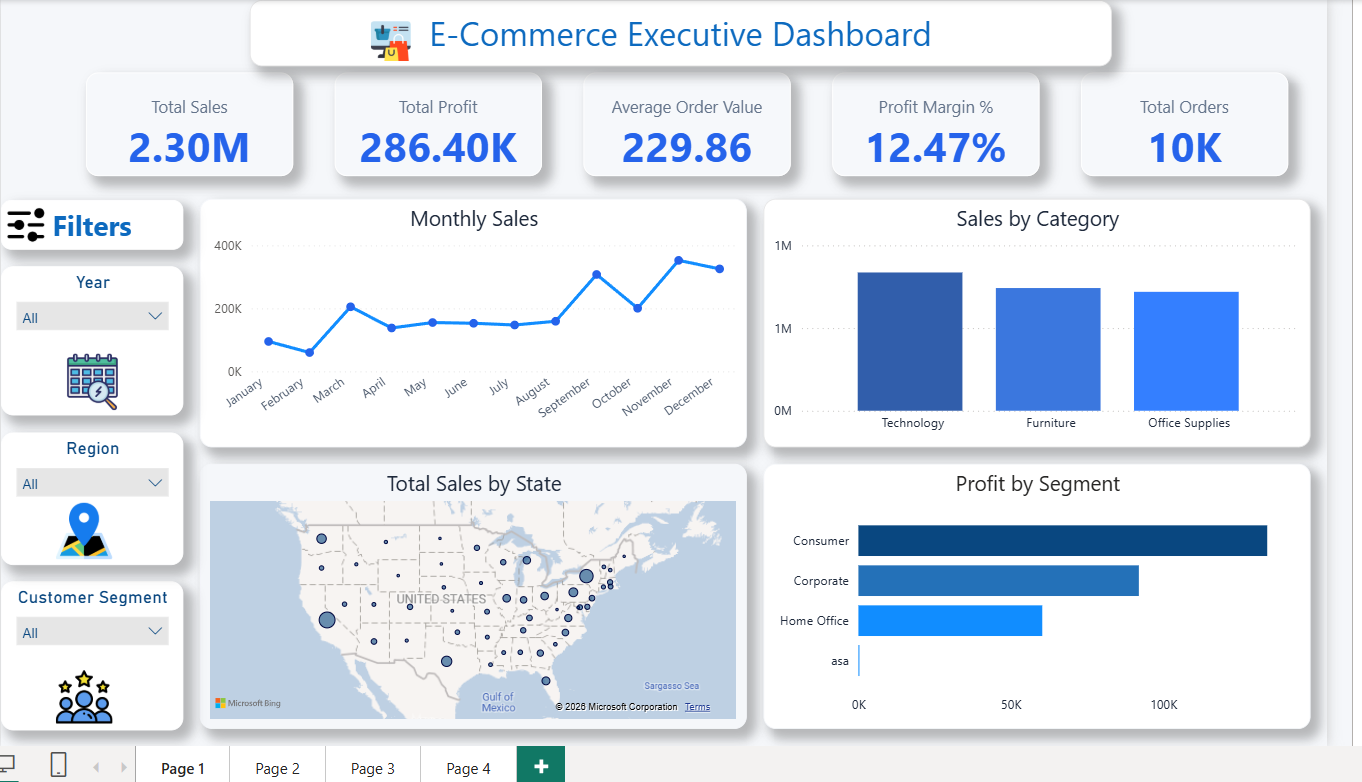

Layout of this report page (visuals, bound fields, positions):
{"tool":"powerbi","page":{"name":"Page 1","canvas":[1280,720],"ordinal":0},"visuals":[{"type":"cardVisual","fields":{"Data":["Measures (2).Total Sales"]},"box":[82.4,70.1,200,100],"z":0},{"type":"group","id":"g1","title":"Group 1","box":[0,192.7,176,48],"z":0,"group":"g3"},{"type":"cardVisual","fields":{"Data":["Measures (2).Total Profit"]},"box":[322.4,70.1,200,100],"z":1000},{"type":"group","id":"g2","title":"Group 2","box":[0,256.7,176,448],"z":1000,"group":"g3"},{"type":"slicer","title":"Year","fields":{"Values":["DimDate.OrderYear"]},"box":[0,256.7,176,144],"z":1000,"group":"g2"},{"type":"cardVisual","fields":{"Data":["Measures (2).Total Orders"]},"box":[1042.4,70.1,200,100],"z":2000},{"type":"cardVisual","fields":{"Data":["Measures (2).Profit Margin %"]},"box":[802.4,70.1,200,100],"z":3000},{"type":"slicer","title":"Customer Segment","fields":{"Values":["DimCustomer.Segment"]},"box":[0,560.7,176,144],"z":3000,"group":"g2"},{"type":"cardVisual","fields":{"Data":["Measures (2).Average Order Value"]},"box":[562.4,70.1,200,100],"z":4000},{"type":"slicer","title":"Region","fields":{"Values":["DimLocation.Region"]},"box":[0,416.7,176,128],"z":4000,"group":"g2"},{"type":"lineChart","title":"Monthly Sales","fields":{"Category":["DimDate.OrderMonthName"],"Y":["Measures (2).Total Sales"]},"box":[192,192,528,240],"z":5000},{"type":"clusteredColumnChart","title":"Sales by Category","fields":{"Category":["DimProduct.Category"],"Y":["Measures (2).Total Sales"]},"box":[736,192,528,240],"z":6000},{"type":"map","fields":{"Category":["DimLocation.State"],"Size":["Measures (2).Total Sales"]},"box":[192,448,528,256],"z":7000},{"type":"clusteredBarChart","title":"Profit by Segment","fields":{"Category":["DimCustomer.Segment"],"Y":["Measures (2).Total Profit"]},"box":[736,448,528,256],"z":8000},{"type":"group","id":"g3","title":"Group 3","box":[0,192.7,176,512],"z":9000},{"type":"group","id":"g4","title":"Group 4","box":[240,0,832,64],"z":10000},{"type":"shape","box":[240,0,832,64],"z":10000,"group":"g4"},{"type":"image","box":[352,16,48,48],"z":11000,"group":"g4"},{"type":"shape","box":[0,192.7,176,48],"z":12000,"group":"g1"},{"type":"image","box":[48,640.7,64,64],"z":12000,"group":"g2"},{"type":"image","box":[0,192.7,48,48],"z":13000,"group":"g1"},{"type":"image","box":[48,464.7,64,96],"z":13000,"group":"g2"},{"type":"image","box":[48,336.7,80,64],"z":14000,"group":"g2"}]}

Visuals, with their boxes on the page's 1280x720 design canvas (x1, y1, x2, y2). These are canvas units, not pixel positions in the 1362x782 screenshot, which may show the page scaled, cropped or inside an application window:
cardVisual - Measures (2).Total Sales: <bbox>82, 70, 282, 170</bbox>
"Group 1" group: <bbox>0, 193, 176, 241</bbox>
cardVisual - Measures (2).Total Profit: <bbox>322, 70, 522, 170</bbox>
"Group 2" group: <bbox>0, 257, 176, 705</bbox>
"Year" slicer: <bbox>0, 257, 176, 401</bbox>
cardVisual - Measures (2).Total Orders: <bbox>1042, 70, 1242, 170</bbox>
cardVisual - Measures (2).Profit Margin %: <bbox>802, 70, 1002, 170</bbox>
"Customer Segment" slicer: <bbox>0, 561, 176, 705</bbox>
cardVisual - Measures (2).Average Order Value: <bbox>562, 70, 762, 170</bbox>
"Region" slicer: <bbox>0, 417, 176, 545</bbox>
"Monthly Sales" lineChart: <bbox>192, 192, 720, 432</bbox>
"Sales by Category" clusteredColumnChart: <bbox>736, 192, 1264, 432</bbox>
map - DimLocation.State x Measures (2).Total Sales: <bbox>192, 448, 720, 704</bbox>
"Profit by Segment" clusteredBarChart: <bbox>736, 448, 1264, 704</bbox>
"Group 3" group: <bbox>0, 193, 176, 705</bbox>
"Group 4" group: <bbox>240, 0, 1072, 64</bbox>
shape: <bbox>240, 0, 1072, 64</bbox>
image: <bbox>352, 16, 400, 64</bbox>
shape: <bbox>0, 193, 176, 241</bbox>
image: <bbox>48, 641, 112, 705</bbox>
image: <bbox>0, 193, 48, 241</bbox>
image: <bbox>48, 465, 112, 561</bbox>
image: <bbox>48, 337, 128, 401</bbox>
